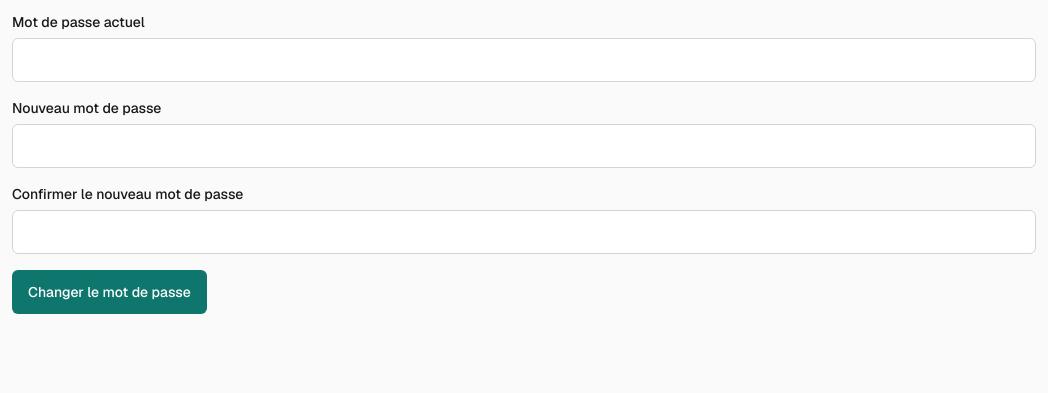
Test: PasswordForm › affiche l'erreur quand le mot de passe actuel est incorrect
The image size is (1048, 393).
Step 1. Type "faux" into the password field labelled "Mot de passe actuel" → [524, 60], box [12, 38, 1036, 82]
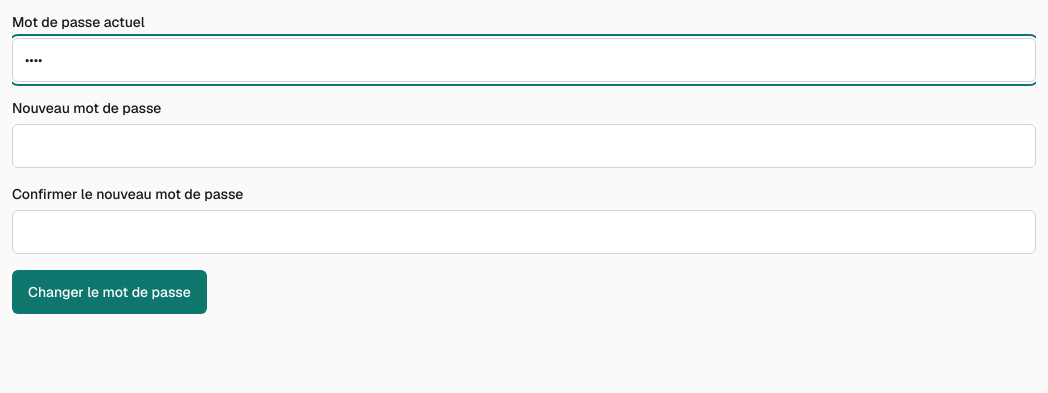
Step 2. Type "nouveau-mot-de-passe" into the password field labelled "Nouveau mot de passe" → [524, 146], box [12, 124, 1036, 168]
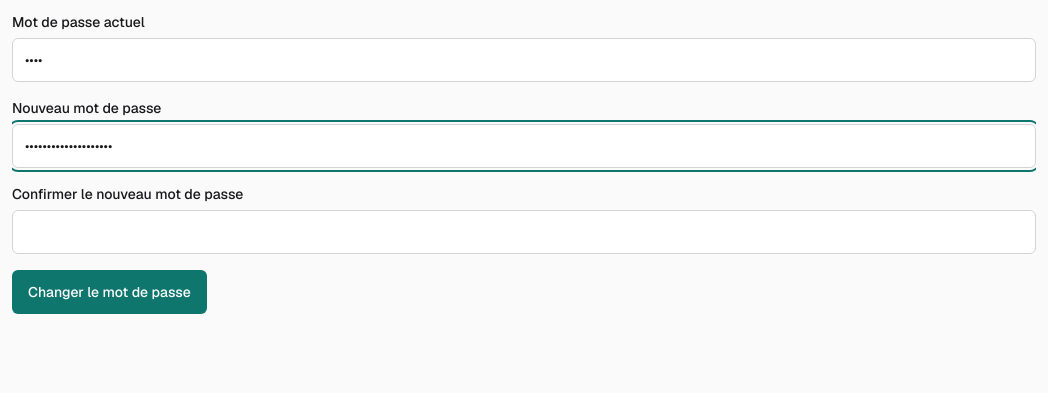
Step 3. Type "nouveau-mot-de-passe" into the password field labelled "Confirmer le nouveau mot de passe" → [524, 232], box [12, 210, 1036, 254]
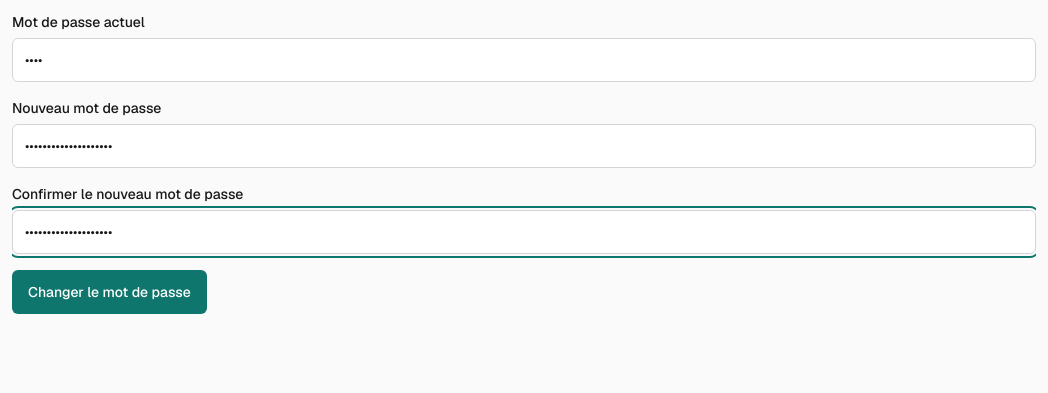
Step 4. Click the button "Changer le mot de passe" → [109, 292], box [12, 270, 207, 314]
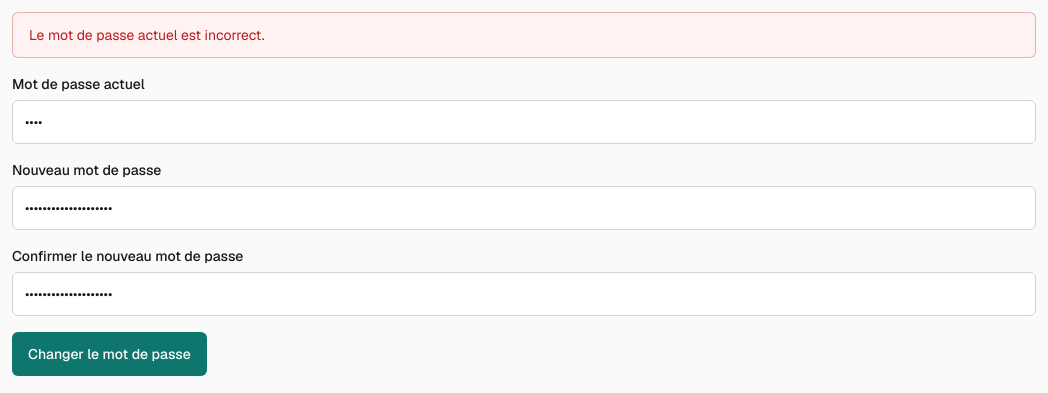
Expected: the message shows "incorrect", [29, 26, 264, 44]
